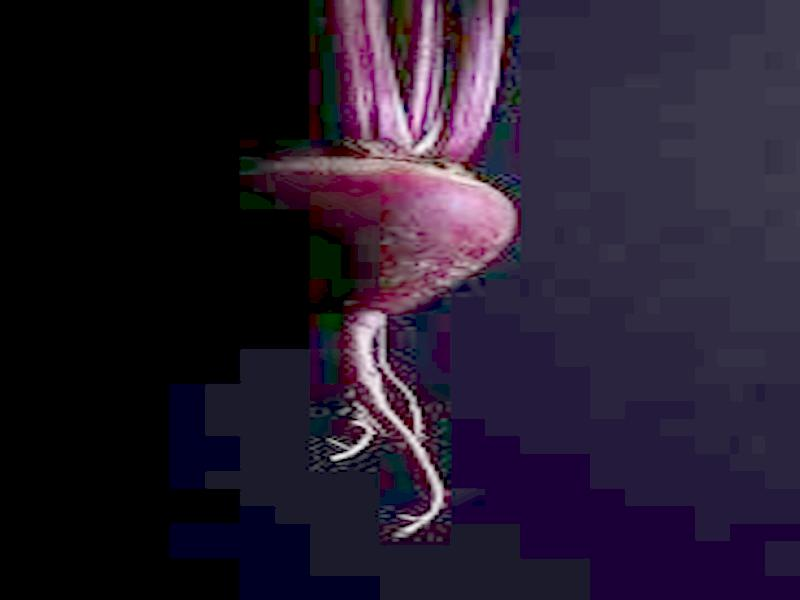Beet: (239, 2, 532, 537)
